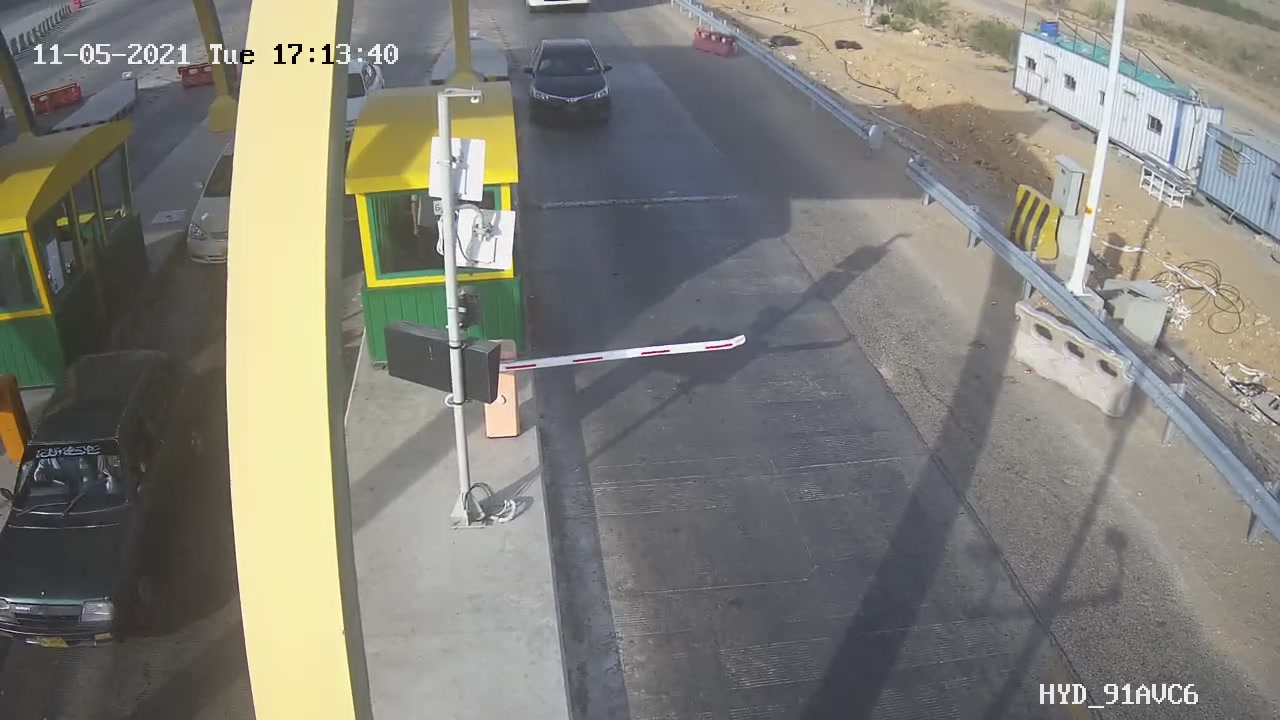F1: (516, 25, 627, 138)
